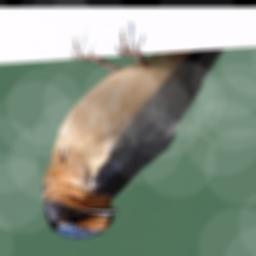Swallow: (44, 29, 225, 241)
